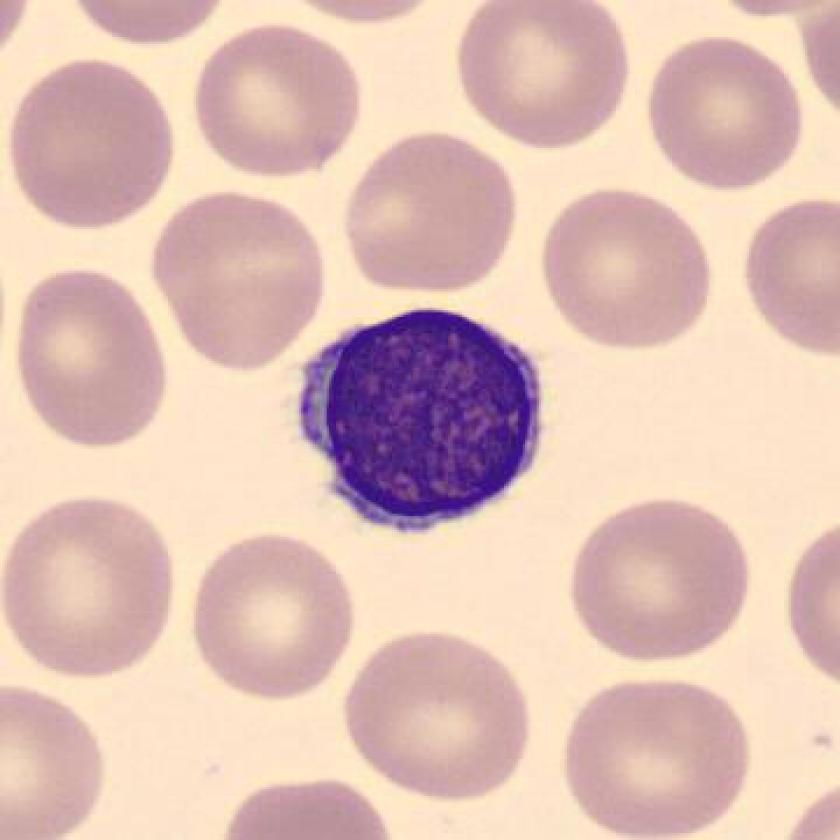lymphocyte: (286, 288, 552, 549)
